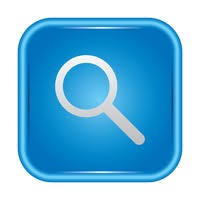searchIcon: (52, 53, 145, 145)
